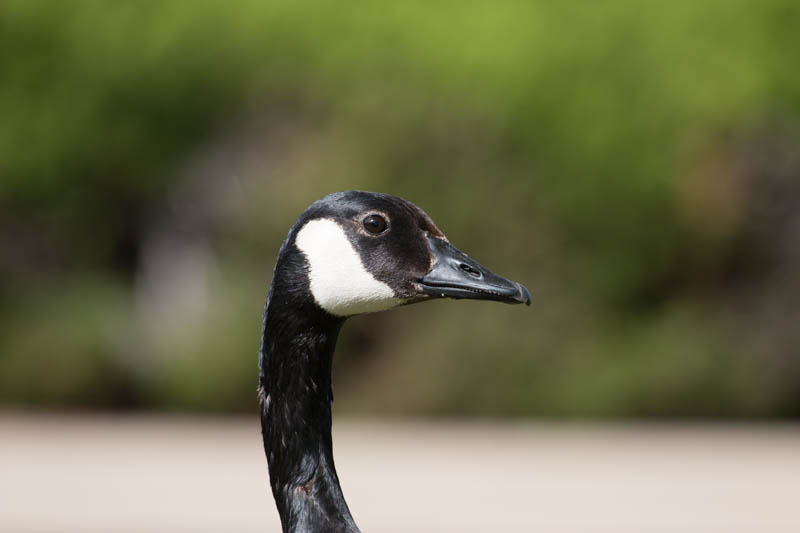goose-head: (266, 190, 532, 318)
